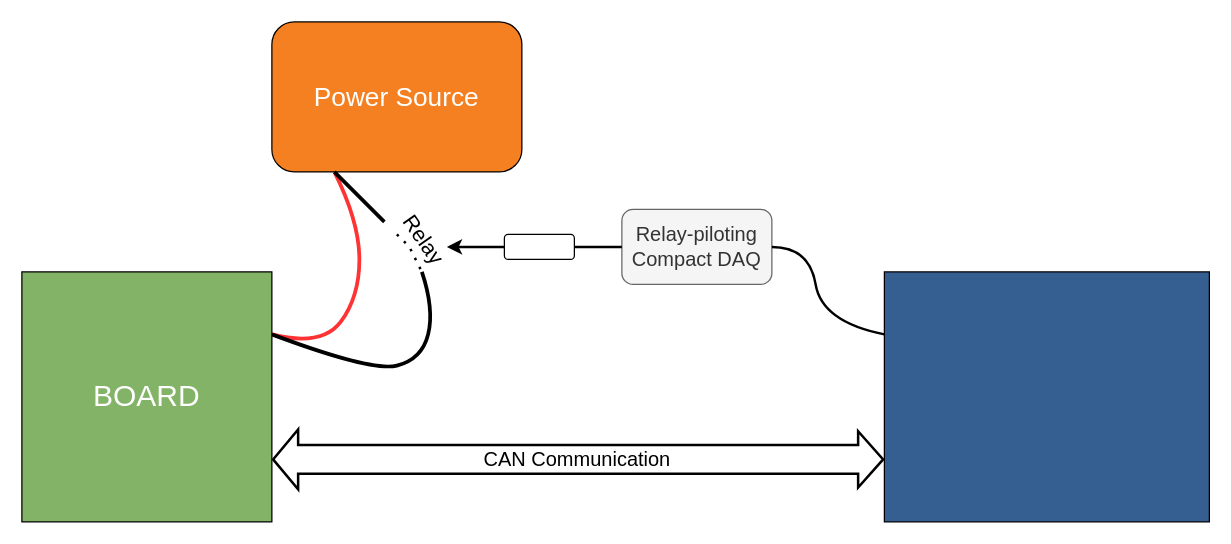
Image size: 1231x544. Some labels were removed from this diagram. The shapes that lost their labels are listed below. From the top down, each one's box as (x1, y1, x2, y2) in pixels, then its label:
(503, 233, 574, 259): LED
(883, 271, 1209, 522): PC with LabVIEW
